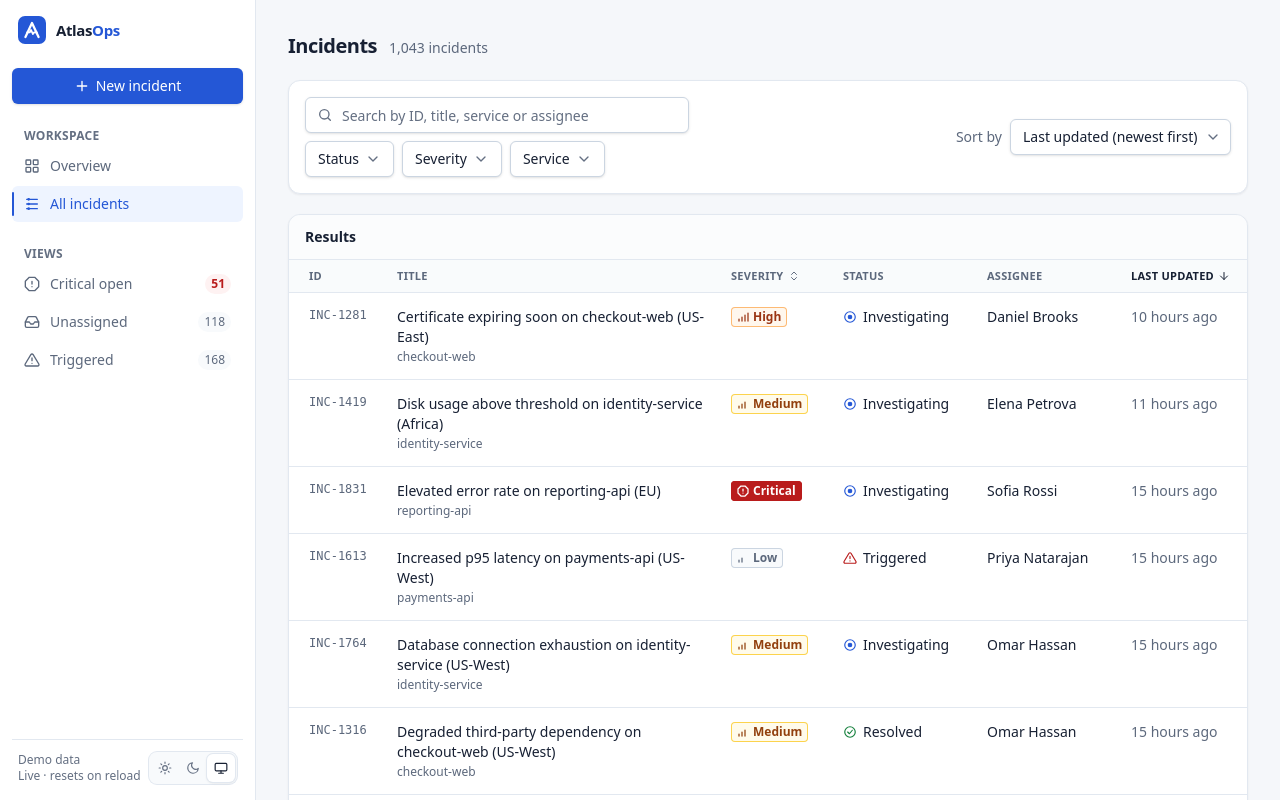
Test: Incident list page › sorts by severity from the column header and communicates the sort
Click the button "Severity" in the row of "Title" at (765, 276), box [727,268,804,284]
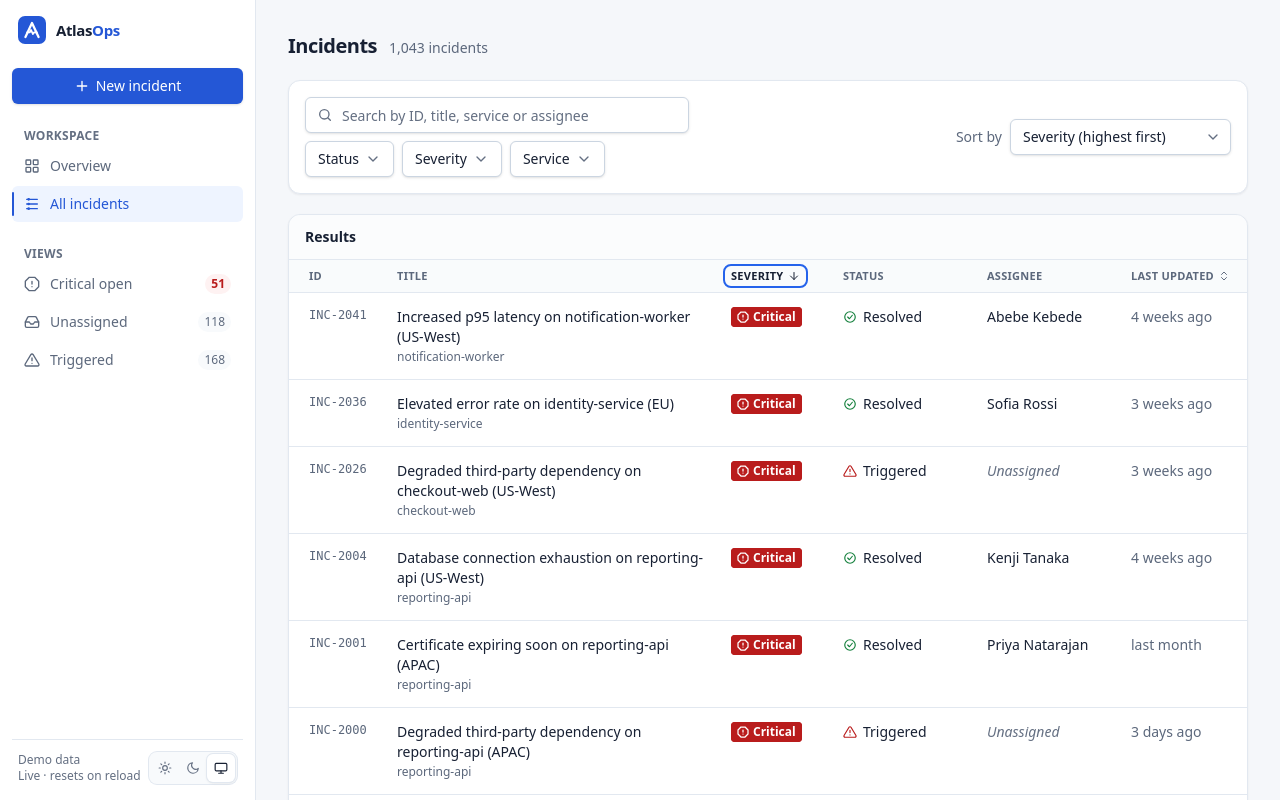
Expected: the row that starts with "INC-2041" shows "Critical", [753,308,796,325]
